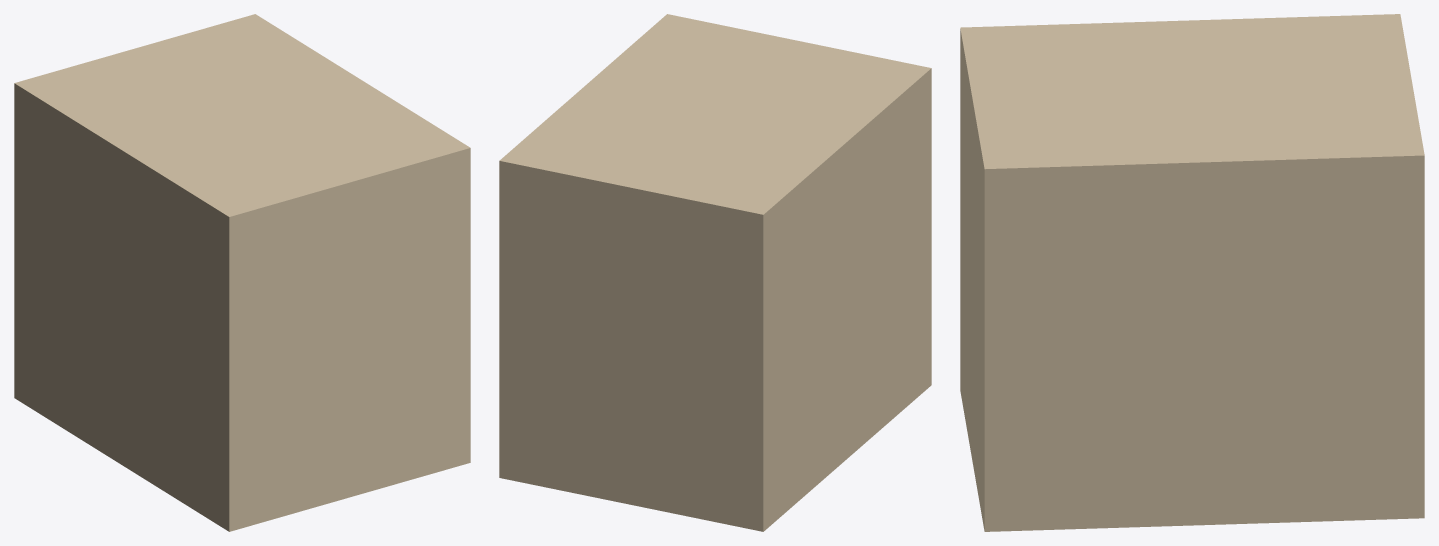
3 views of the same model, side by side, from view 1: azimuth 30°, elevation 25°; view 2: azimuth 150°, elevation 25°; view 3: azimuth 270°, elevation 25° (orthographic). The views are drawn at different scales.
Visible parts, largest first — view 1: SM_51e5d08f4b4c86c213d8; view 2: SM_51e5d08f4b4c86c213d8; view 3: SM_51e5d08f4b4c86c213d8.
Boxes of the visible parts, x1,y1,x2,y2 form: SM_51e5d08f4b4c86c213d8: [14, 14, 470, 531]; SM_51e5d08f4b4c86c213d8: [499, 14, 931, 531]; SM_51e5d08f4b4c86c213d8: [960, 14, 1424, 531].
Size of the model in its own units: 11.01 by 13.92 by 12.
